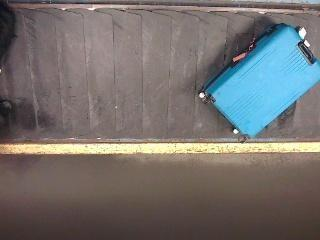Suitcase: (199, 16, 320, 142)
